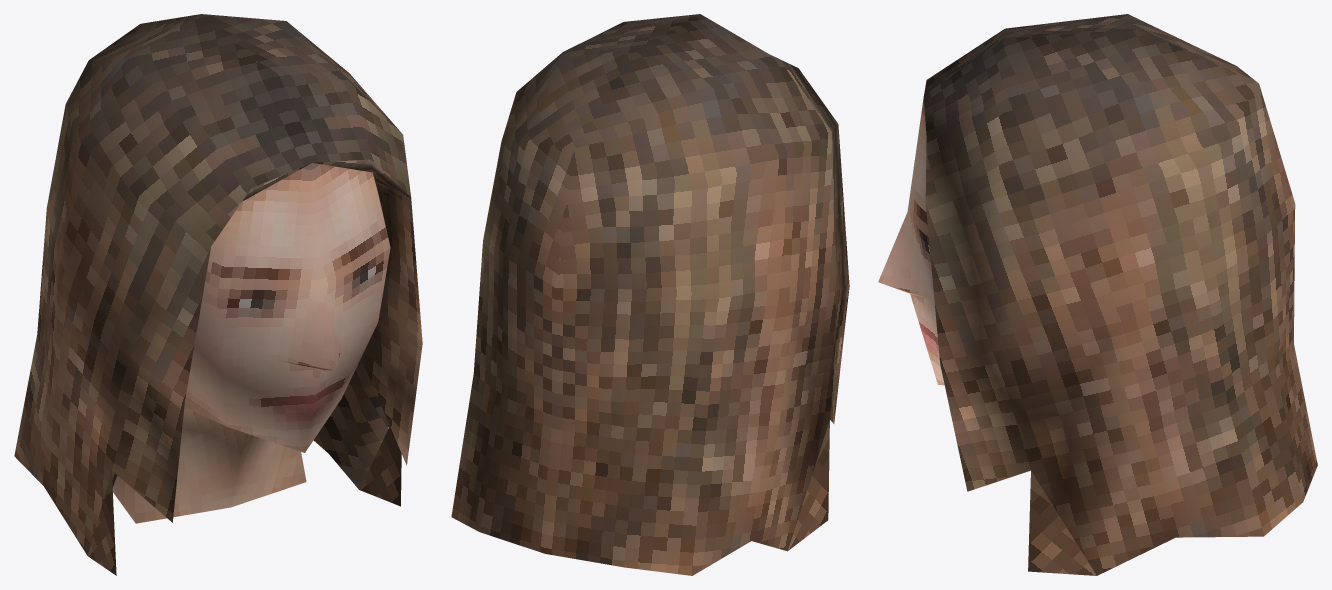
Rendered from heads-female.glb.
3 renders of one model, left to right at view 1: azimuth 30°, elevation 25°; view 2: azimuth 150°, elevation 25°; view 3: azimuth 270°, elevation 25°, orthographic. The views are drawn at different scales.
Visible parts, largest first — view 1: head_f1; view 2: head_f1; view 3: head_f1.
Boxes of the visible parts, left/top/right/bottom form: head_f1: left=14, top=14, right=422, bottom=575; head_f1: left=451, top=14, right=849, bottom=575; head_f1: left=878, top=14, right=1317, bottom=575.
Size of the model in its own units: 0.171 by 0.2689 by 0.2228.
6 materials, 6 textured.
